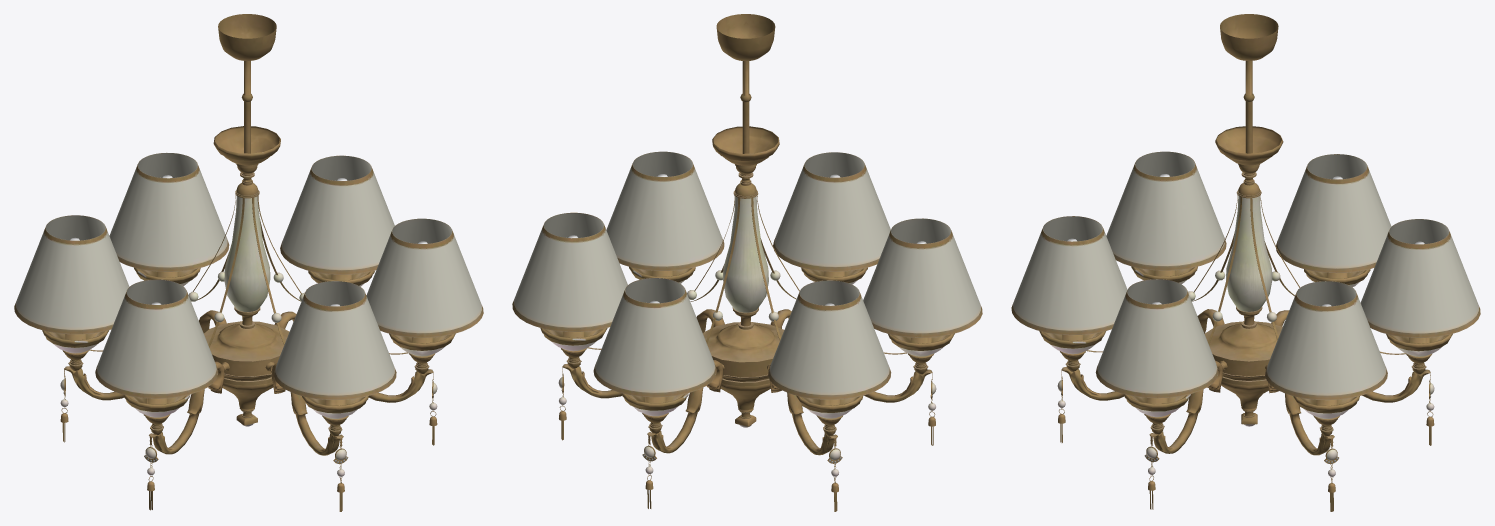
The model's file is ph_chandelier_01.glb.
3 views of the same model, side by side, from view 1: azimuth 30°, elevation 25°; view 2: azimuth 150°, elevation 25°; view 3: azimuth 270°, elevation 25° (orthographic).
Visible parts, largest first — view 1: Chandelier_01; view 2: Chandelier_01; view 3: Chandelier_01.
Boxes of the visible parts, left/top/right/bottom form: Chandelier_01: left=14, top=14, right=483, bottom=511; Chandelier_01: left=512, top=14, right=982, bottom=511; Chandelier_01: left=1011, top=14, right=1480, bottom=511.
Bounding box in the file's own units: 0.7465 × 0.7983 × 0.8155.
2 materials, 1 textured.
